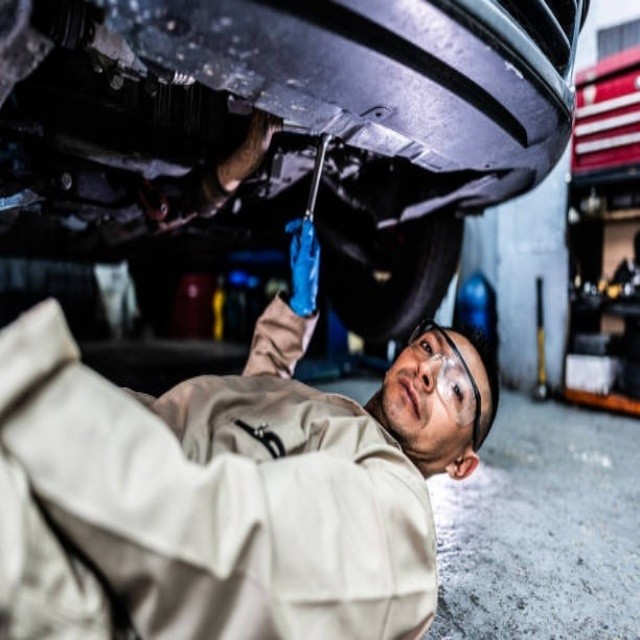Gafas: (413, 320, 482, 450)
Guantes: (284, 215, 321, 318)
Sin_mascara: (388, 365, 430, 433)
